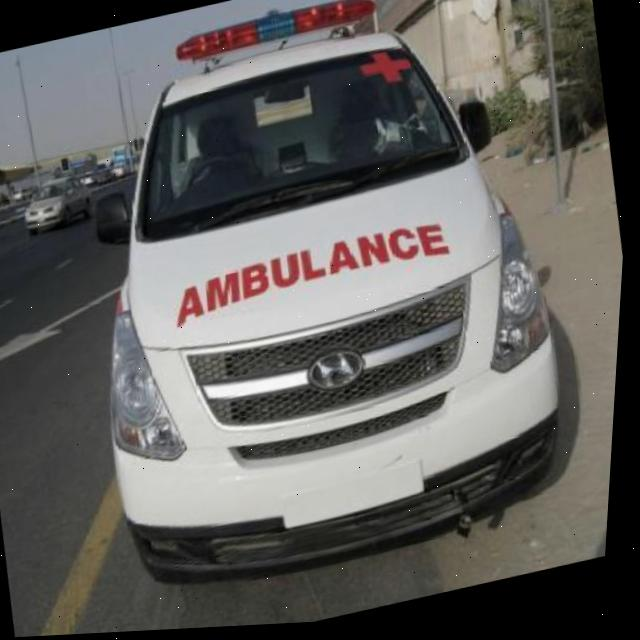emergency: (39, 0, 607, 611)
